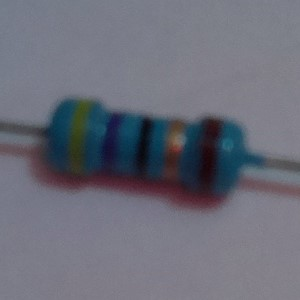black_band: (131, 116, 156, 181)
brown_band: (196, 114, 226, 196)
gold_band: (161, 117, 190, 183)
violet_band: (96, 111, 127, 174)
yellow_band: (62, 94, 95, 178)
